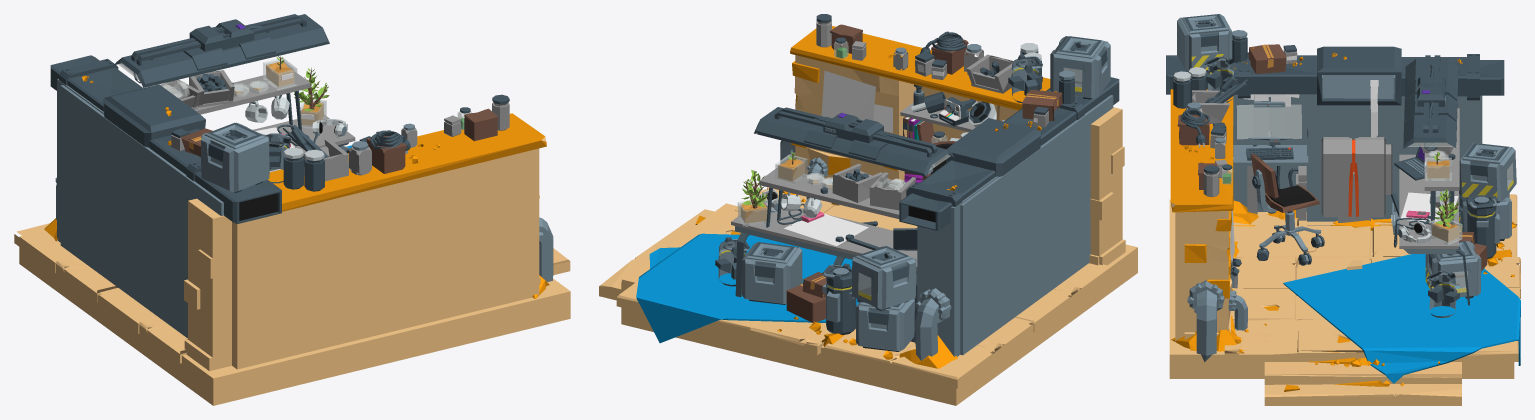
File: workshop.glb
3 views of the same model, side by side, from view 1: azimuth 30°, elevation 25°; view 2: azimuth 150°, elevation 25°; view 3: azimuth 270°, elevation 25° (orthographic). The views are drawn at different scales.
Parts seen in each view (by area): view 1: group1763104299, group1100343911, group987980187, group286800131, group259666405, group337026695, group166672997, group61219957, group2022069560, group389696598, group92703077, group722914409 (+22 smaller); view 2: group1100343911, group1899386574, group987980187, group286800131, group259666405, group337026695, group1819965688, group177251386, group61219957, group707679182, group1482947389, group975002159 (+42 smaller); view 3: group1899386574, group177251386, group1451214769, group987980187, group61219957, group1024795164, group286800131, group1819965688, group954819432, group337026695, group1048239680, group1557021028 (+52 smaller).
Part boxes in pixels (x1,y1,x2,y2): group1763104299: [232, 148, 539, 369]; group1100343911: [60, 85, 223, 338]; group987980187: [19, 236, 570, 405]; group286800131: [114, 14, 329, 87]; group259666405: [184, 198, 231, 370]; group337026695: [268, 113, 546, 211]; group166672997: [201, 122, 269, 192]; group61219957: [103, 84, 205, 147]; group2022069560: [194, 171, 281, 224]; group389696598: [59, 58, 143, 111]; group92703077: [195, 72, 310, 114]; group722914409: [283, 125, 348, 181]; group1100343911: [960, 95, 1113, 355]; group1899386574: [636, 233, 858, 343]; group987980187: [621, 204, 1137, 405]; group286800131: [754, 107, 953, 176]; group259666405: [996, 105, 1125, 265]; group337026695: [790, 26, 1050, 110]; group1819965688: [791, 55, 916, 204]; group177251386: [917, 145, 1040, 356]; group61219957: [945, 118, 1040, 176]; group707679182: [852, 246, 916, 310]; group1482947389: [742, 242, 802, 304]; group975002159: [731, 201, 917, 275]; group1899386574: [1283, 254, 1520, 383]; group177251386: [1307, 75, 1482, 225]; group1451214769: [1321, 137, 1392, 220]; group987980187: [1169, 199, 1514, 378]; group61219957: [1317, 46, 1401, 105]; group1024795164: [1231, 257, 1397, 320]; group286800131: [1403, 55, 1458, 150]; group1819965688: [1184, 211, 1232, 339]; group954819432: [1264, 384, 1461, 405]; group337026695: [1170, 89, 1233, 212]; group1048239680: [1233, 101, 1308, 165]; group1557021028: [1264, 362, 1461, 384].
Bounding box in the file's own units: 3.66 × 2.15 × 3.06.
